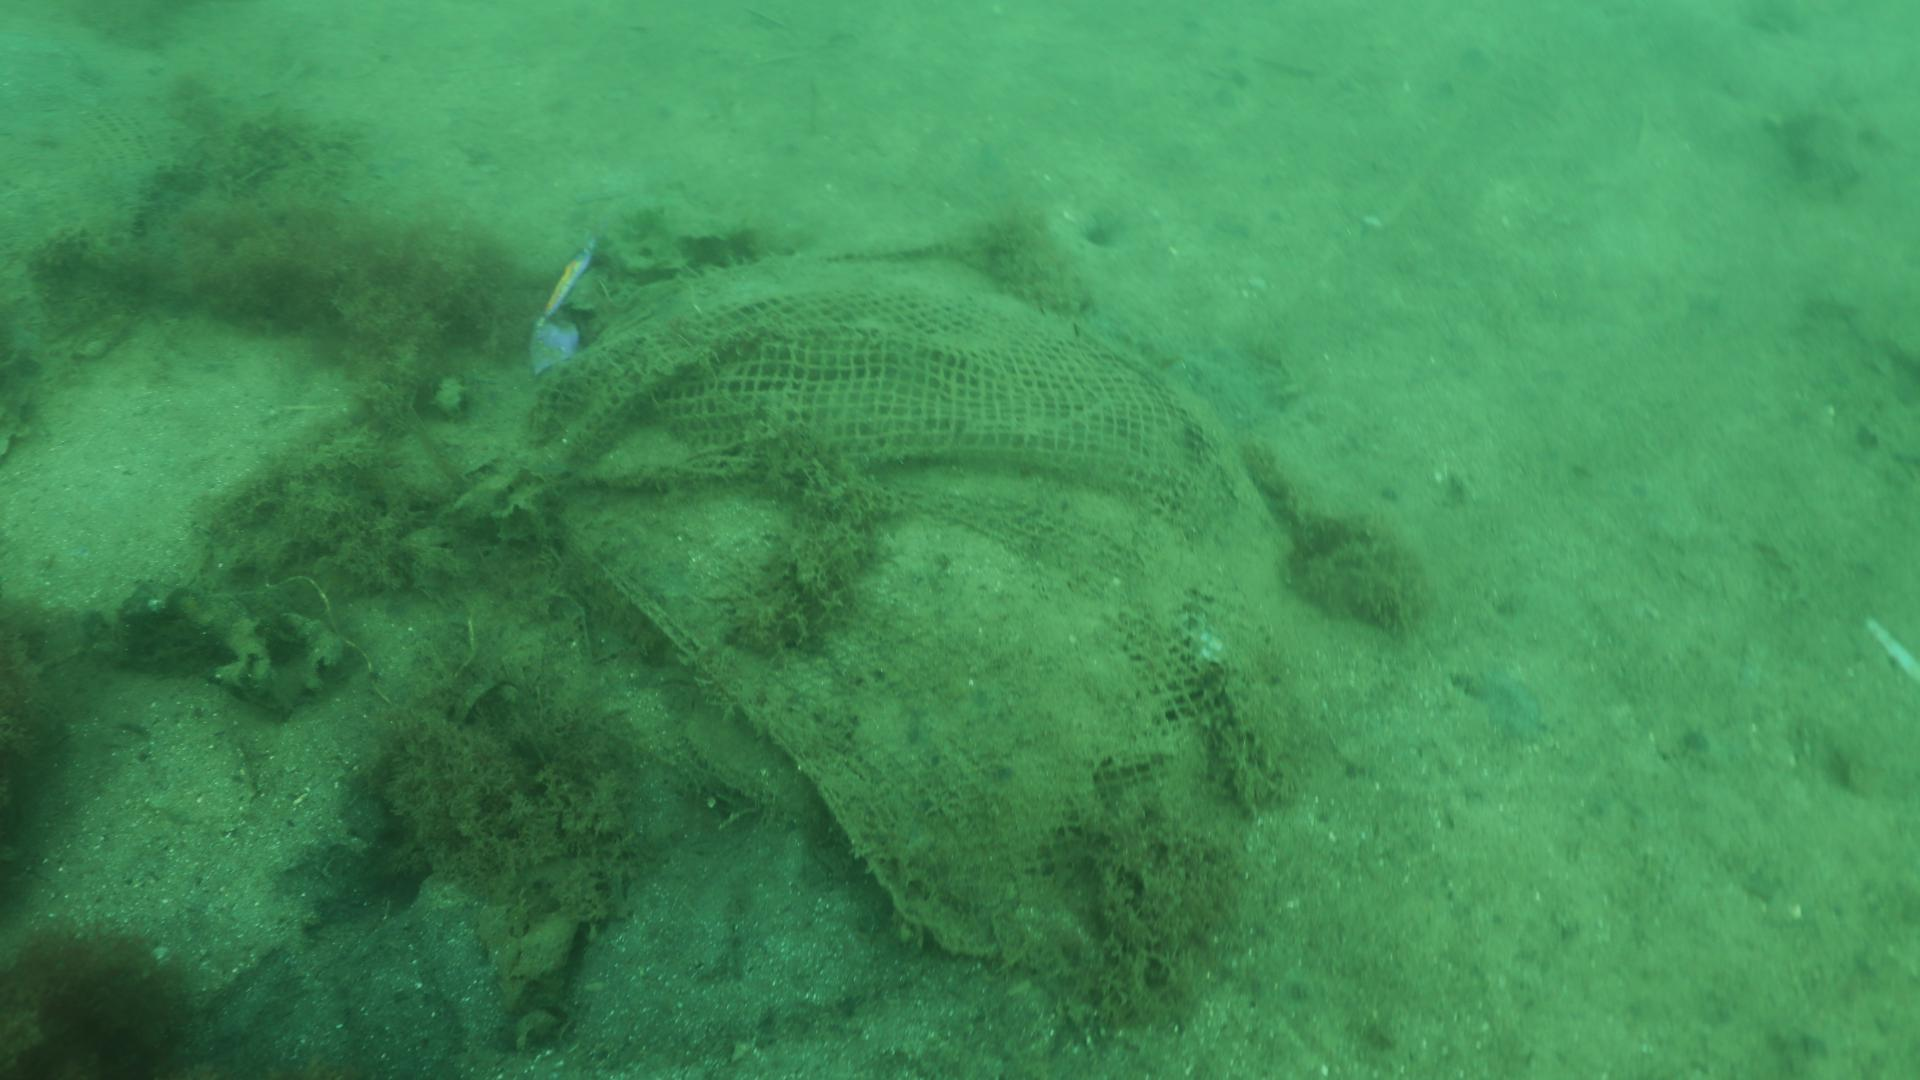fish net: (525, 253, 1244, 897)
